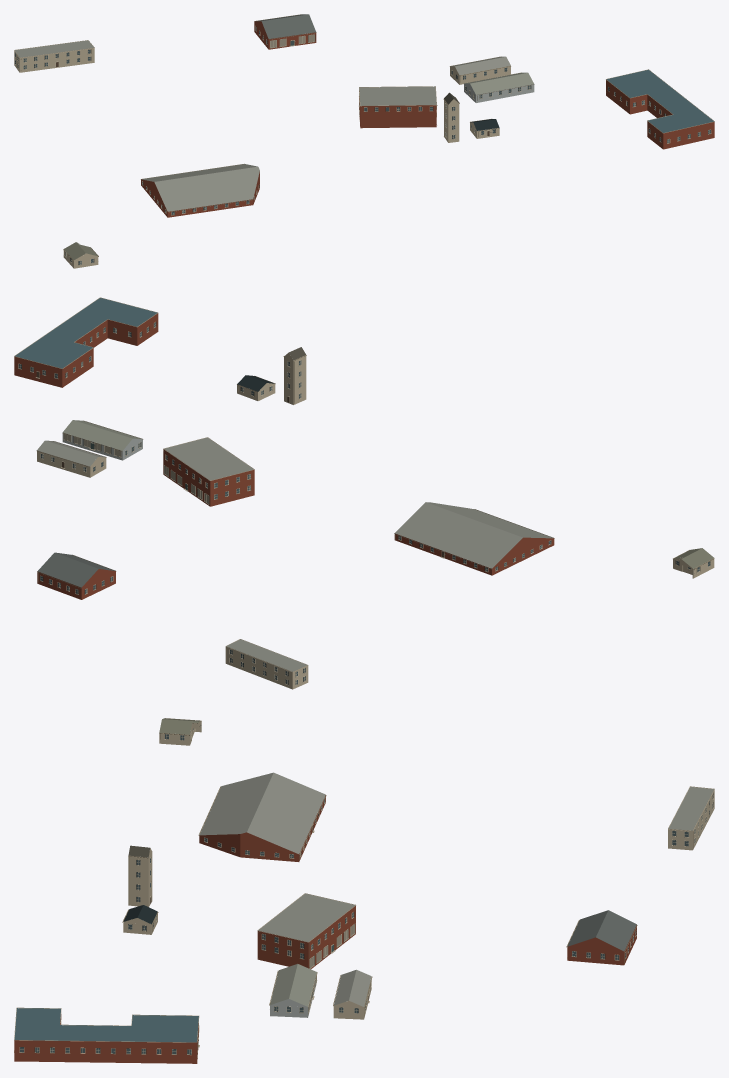
3 renders of one model, top to bottom at view 1: azimuth 30°, elevation 25°; view 2: azimuth 150°, elevation 25°; view 3: azimuth 270°, elevation 25°, orthographic. The views are drawn at different scales.
Parts seen in each view (by area): view 1: 2_1_326848099_0, 2_1_326848164_3, 2_1_326848205_4; view 2: 2_1_326848099_0, 2_1_326848164_3; view 3: 2_1_326848099_0, 2_1_326848164_3, 2_1_326848205_4.
Boxes of the visible parts, x1,y1,x2,y2 form: 2_1_326848099_0: (14,14,714,265); 2_1_326848164_3: (14,48,510,268); 2_1_326848205_4: (464,83,534,102); 2_1_326848099_0: (14,297,714,685); 2_1_326848164_3: (37,352,714,689); 2_1_326848099_0: (14,718,714,1063); 2_1_326848164_3: (123,721,714,1019); 2_1_326848205_4: (270,972,316,1017).
Bounding box in the file's own units: 271 × 39.63 × 214.
